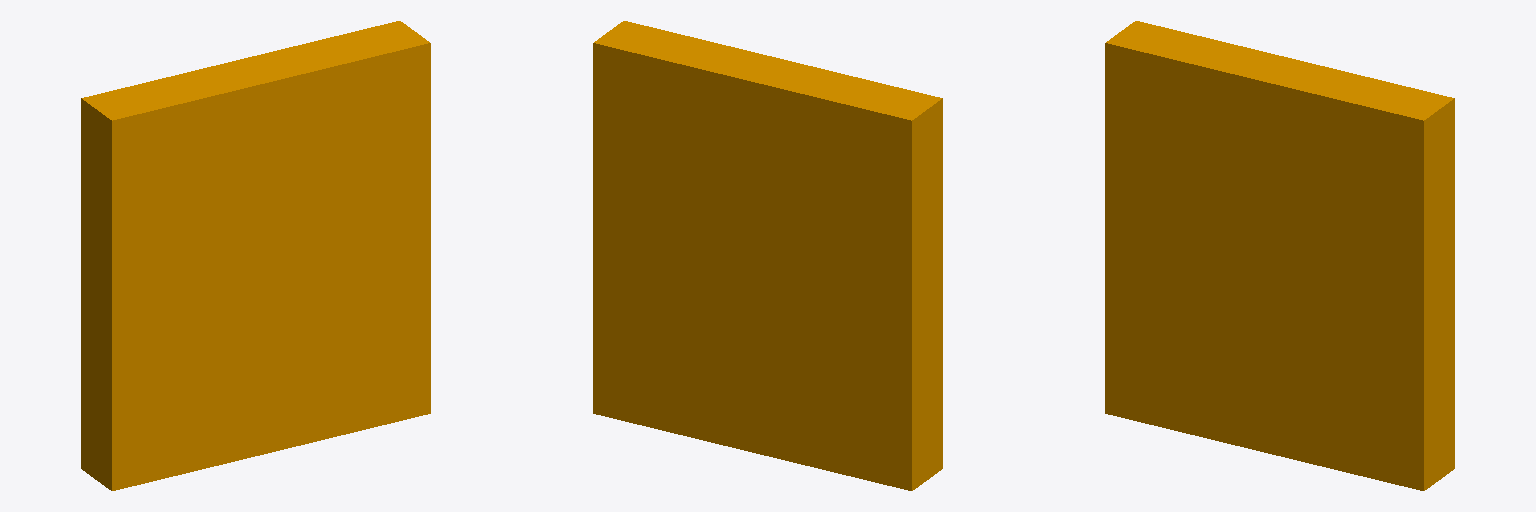
robot.urdf — door:
<robot name="door">
    <link name="base_link">
        <inertial>
            <origin xyz="0 0 0" rpy="0 0 0"/>
            <mass value="0.999704"/>
            <inertia ixx="0.0851577" iyy="0.14933" izz="0.0678704" ixy="0" ixz="0" iyz="0"/>
        </inertial>
        <collision>
            <origin xyz="0 0 0" rpy="0 0 0"/>
            <geometry>
                <box size="0.9 0.15 1"/>
            </geometry>
        </collision>
        <visual>
            <origin xyz="0 0 0" rpy="0 0 0"/>
            <geometry>
                <box size="0.9 0.15 1"/>
            </geometry>
        </visual>
    </link>
    <gazebo reference="base_link">
        <kp value="1e+13"/>
        <kd value="1"/>
        <mu1 value="1"/>
        <mu2 value="1"/>
        <fdir1 value="0 0 0"/>
        <material>Gazebo/Steps</material>
        <static>true</static>
    </gazebo>
</robot>

--- Facts derived from the render (not from the file) ---
3 views of the same robot in one strip: view 1: azimuth 30°, elevation 25°; view 2: azimuth 150°, elevation 25°; view 3: azimuth 330°, elevation 25° (orthographic).
Model door with 1 links and 0 joints (none), rooted at base_link, posed all joints at 0.
Links seen in each view (by area): view 1: base_link; view 2: base_link; view 3: base_link.
Link boxes in pixels (x1,y1,x2,y2): base_link: (81,21,430,490); base_link: (593,21,942,490); base_link: (1105,21,1454,490).
Bounding box of the posed robot: 0.9 × 0.15 × 1 m (x, y, z).
Geometry: primitives only (box / cylinder / sphere), no mesh files.